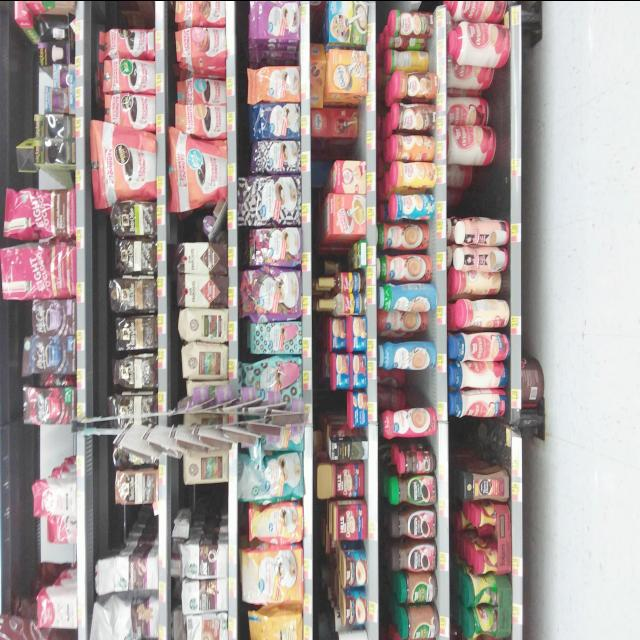empty_space: (456, 165, 497, 210), (459, 427, 500, 461), (114, 511, 152, 545), (38, 546, 78, 578), (190, 486, 226, 520), (37, 430, 75, 462), (384, 372, 424, 402), (103, 0, 149, 25), (322, 142, 359, 160), (42, 168, 70, 188)
